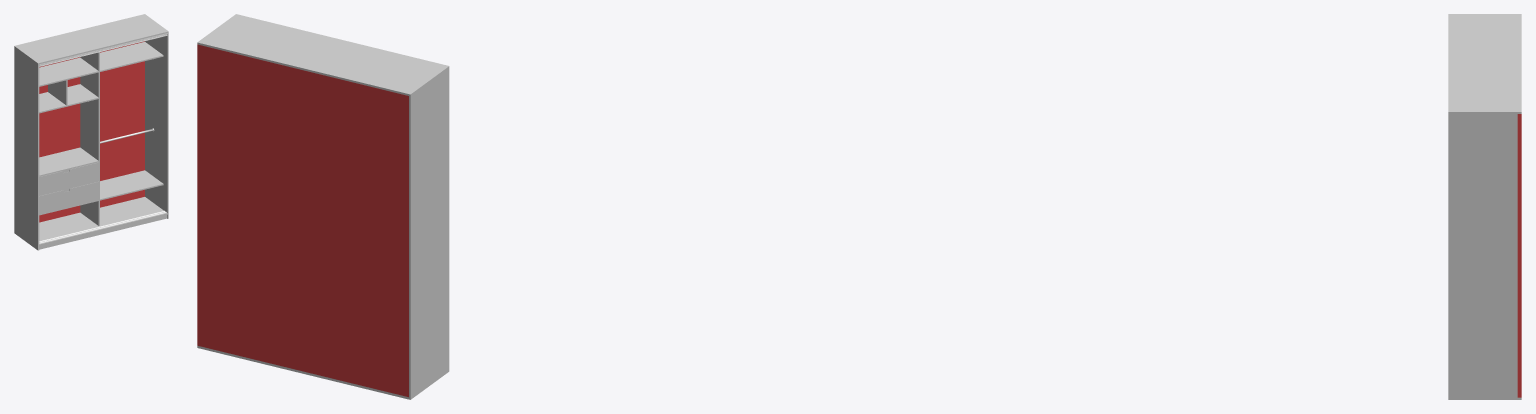
File: dolap.gltf
The picture shows the model from 3 angles, left to right: view 1: azimuth 30°, elevation 25°; view 2: azimuth 150°, elevation 25°; view 3: azimuth 270°, elevation 25°; orthographic projection. The views are drawn at different scales.
Parts seen in each view (by area): view 1: Cube; view 2: Cube; view 3: Cube.
Boxes of the visible parts, x1,y1,x2,y2 form: Cube: [14, 14, 168, 250]; Cube: [197, 14, 449, 399]; Cube: [1448, 14, 1521, 399].
Size of the model in its own units: 3.3 by 2.6 by 4.95.
10 materials, 1 textured.
